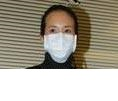face_mask: (44, 13, 75, 56)
